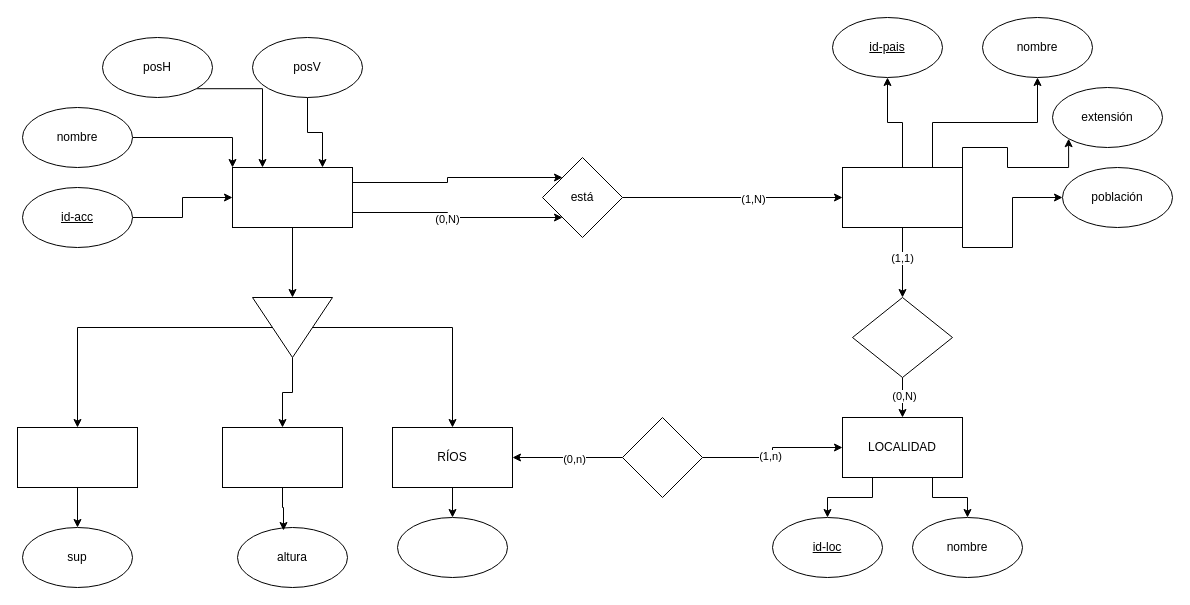
The diagram is 1190 pixels wide and 605 high, and some of its shapes have lost their labels. Each missing label, with the centre of its shape:
"ACCIDENTES" goes at [292,197].
"LAGOS" goes at [77,457].
"long." goes at [452,547].
"MONTAÑAS" goes at [282,457].
"pasa por" goes at [662,457].
"PAÍS" goes at [902,197].
"pertenece" goes at [902,337].
"T.D" goes at [292,327].
